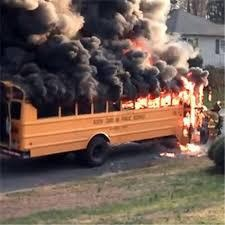fire: (124, 73, 209, 120)
